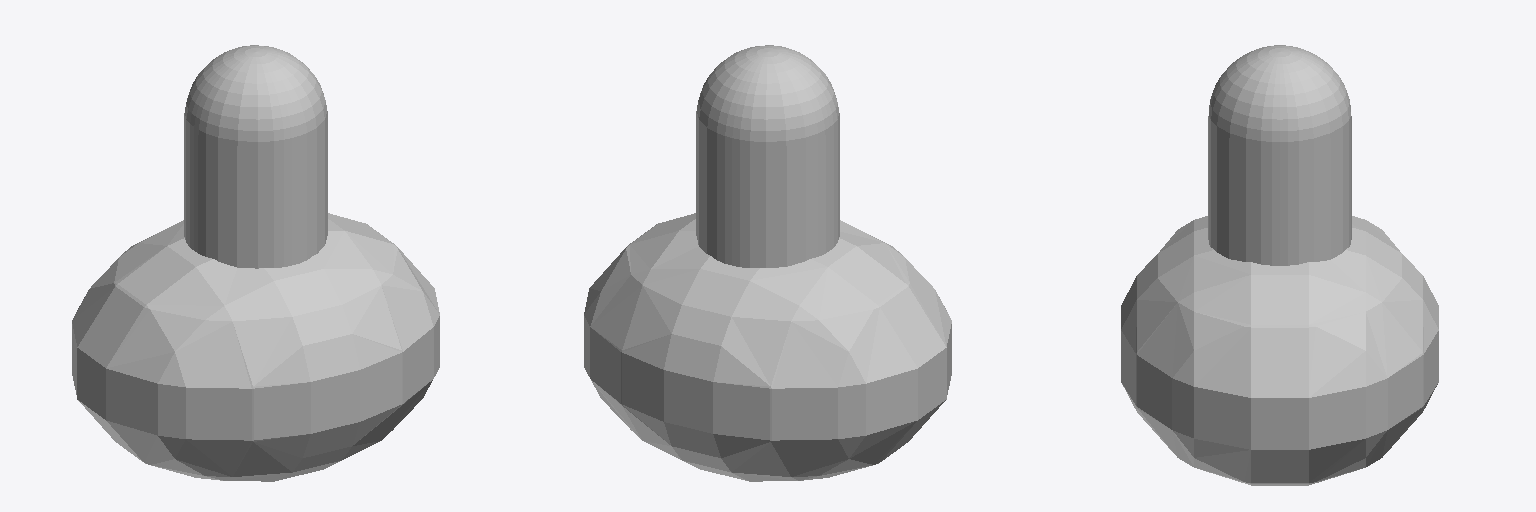
The picture shows the model from 3 angles: view 1: azimuth 30°, elevation 25°; view 2: azimuth 150°, elevation 25°; view 3: azimuth 270°, elevation 25°; orthographic projection.
Parts seen in each view (by area): view 1: Mball, Surface, SurfSphere; view 2: Mball, Surface, SurfSphere; view 3: Mball, Surface, SurfSphere.
Boxes of the visible parts, box(x1,y1,x2,y2) form: Mball: box(72, 213, 439, 481); Surface: box(184, 117, 327, 268); SurfSphere: box(184, 45, 327, 146); Mball: box(584, 213, 951, 481); Surface: box(696, 117, 839, 267); SurfSphere: box(696, 45, 839, 146); Mball: box(1121, 216, 1438, 485); Surface: box(1208, 116, 1351, 265); SurfSphere: box(1209, 45, 1350, 146).
Size of the model in its own units: 5.3 by 6.29 by 4.44.